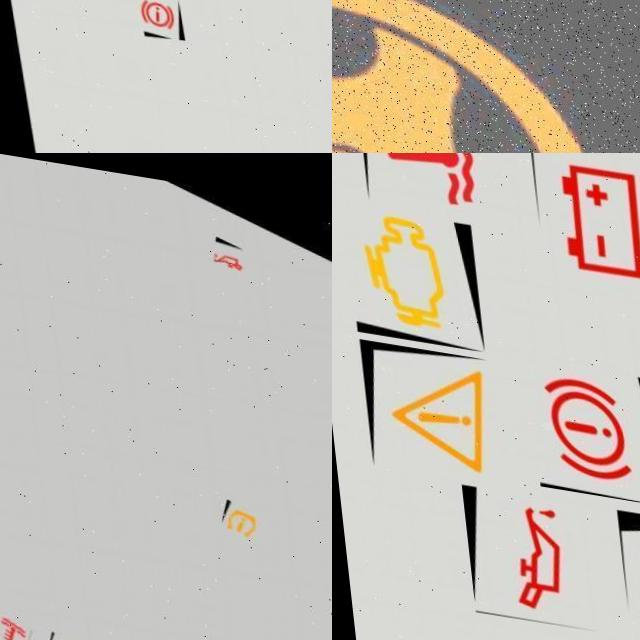Electronic Power Steering: (332, 0, 640, 153)
